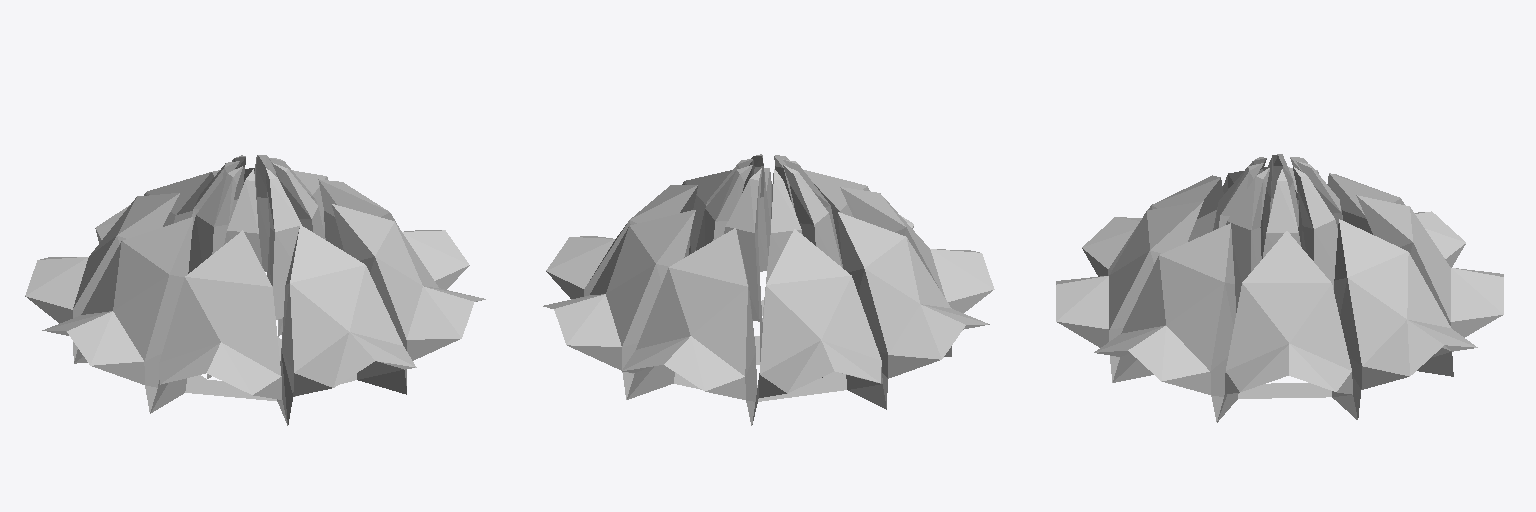
File: lotustemple.obj
3 views of the same model, side by side, from view 1: azimuth 30°, elevation 25°; view 2: azimuth 150°, elevation 25°; view 3: azimuth 270°, elevation 25° (orthographic).
Visible parts, largest first — view 1: Disc; view 2: Disc; view 3: Disc.
Boxes of the visible parts, box(x1,y1,x2,y2) form: Disc: box(25, 155, 485, 425); Disc: box(543, 154, 994, 425); Disc: box(1056, 154, 1503, 422).
Size of the model in its own units: 242 by 112 by 242.